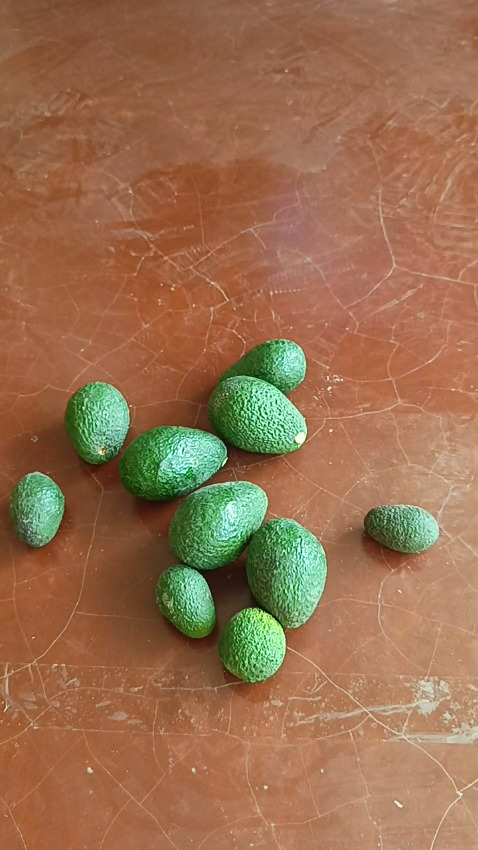Primera: (245, 518, 326, 627), (168, 481, 268, 569), (118, 425, 227, 499), (208, 375, 307, 453)
Segunda: (64, 381, 131, 462), (220, 340, 306, 394)
Tercera: (216, 605, 286, 681), (153, 562, 216, 638), (7, 470, 66, 548), (362, 503, 440, 554)
